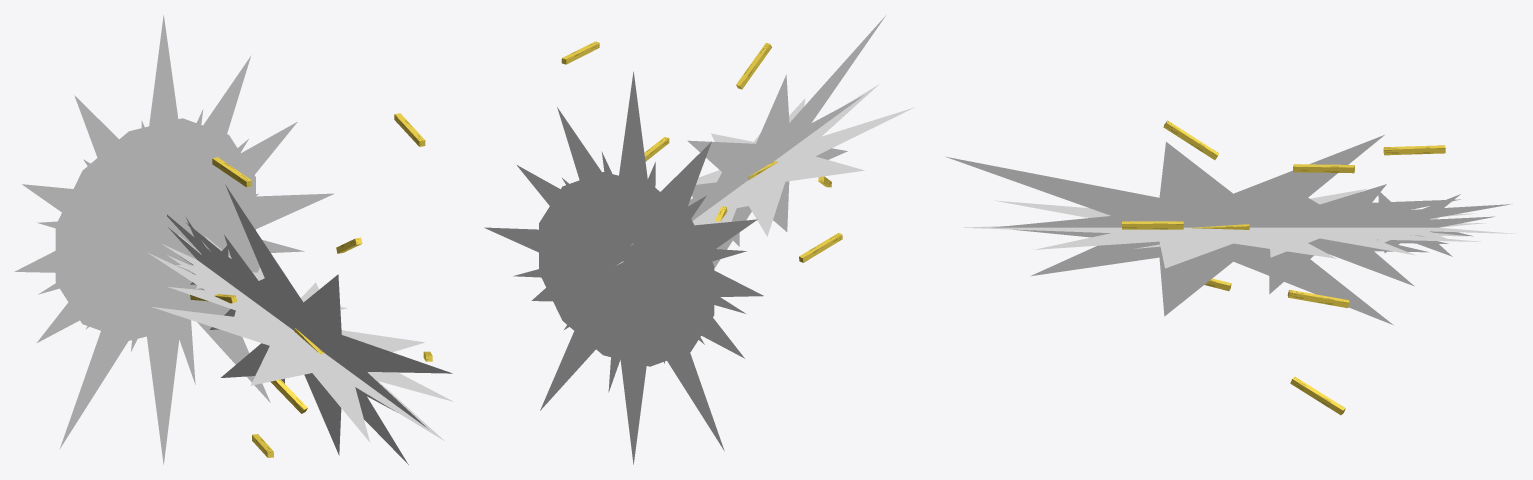
The model's file is Minigun Muzzle Flash.fbx.
The picture shows the model from 3 angles, left to right: view 1: azimuth 30°, elevation 25°; view 2: azimuth 150°, elevation 25°; view 3: azimuth 270°, elevation 25°; orthographic projection. The views are drawn at different scales.
Parts seen in each view (by area): view 1: Minigun Muzzle Flash star 0, Minigun Muzzle Flash star 1, Minigun Muzzle Flash flame up 0, Minigun Muzzle Flash flame flat 0, Minigun Muzzle Flash flame up 1, Minigun Muzzle Flash barrel ring, Minigun Muzzle Flash star 2, Minigun Muzzle Flash barrel star 3, Minigun Muzzle Flash barrel star 1, Minigun Muzzle Flash barrel star 4, Minigun Muzzle Flash barrel star 2, Minigun Muzzle Flash flame flat 1 (+4 smaller); view 2: Minigun Muzzle Flash star 0, Minigun Muzzle Flash barrel ring, Minigun Muzzle Flash flame up 0, Minigun Muzzle Flash flame flat 0, Minigun Muzzle Flash flame flat 1, Minigun Muzzle Flash star 1, Minigun Muzzle Flash flame up 1, Minigun Muzzle Flash spark 0; view 3: Minigun Muzzle Flash flame up 0, Minigun Muzzle Flash flame flat 0, Minigun Muzzle Flash flame up 1, Minigun Muzzle Flash flame flat 1, Minigun Muzzle Flash flame up 2, Minigun Muzzle Flash flame flat 2.
Boxes of the visible parts, x1,y1,x2,y2 form: Minigun Muzzle Flash star 0: (14,15,334,464); Minigun Muzzle Flash star 1: (37,109,304,384); Minigun Muzzle Flash flame up 0: (186,184,452,464); Minigun Muzzle Flash flame flat 0: (147,235,453,442); Minigun Muzzle Flash flame up 1: (167,214,345,383); Minigun Muzzle Flash barrel ring: (55,118,255,340); Minigun Muzzle Flash star 2: (99,175,238,306); Minigun Muzzle Flash barrel star 3: (100,218,148,279); Minigun Muzzle Flash barrel star 1: (165,164,213,225); Minigun Muzzle Flash barrel star 4: (122,251,170,313); Minigun Muzzle Flash barrel star 2: (122,173,170,235); Minigun Muzzle Flash flame flat 1: (167,255,386,398); Minigun Muzzle Flash star 0: (484,71,763,464); Minigun Muzzle Flash barrel ring: (539,172,714,366); Minigun Muzzle Flash flame up 0: (687,15,885,268); Minigun Muzzle Flash flame flat 0: (660,84,914,236); Minigun Muzzle Flash flame flat 1: (692,122,827,224); Minigun Muzzle Flash star 1: (513,151,746,392); Minigun Muzzle Flash flame up 1: (630,127,779,246); Minigun Muzzle Flash spark 0: (736,42,771,89); Minigun Muzzle Flash flame up 0: (945,135,1460,324); Minigun Muzzle Flash flame flat 0: (963,188,1481,268); Minigun Muzzle Flash flame up 1: (1184,184,1512,294); Minigun Muzzle Flash flame flat 1: (1075,227,1468,257); Minigun Muzzle Flash flame up 2: (1327,190,1494,256); Minigun Muzzle Flash flame flat 2: (1310,217,1515,245).
Bounding box in the file's own units: 0.4816 × 0.6248 × 0.7461.
Materials: 6 (1 with a texture image).
